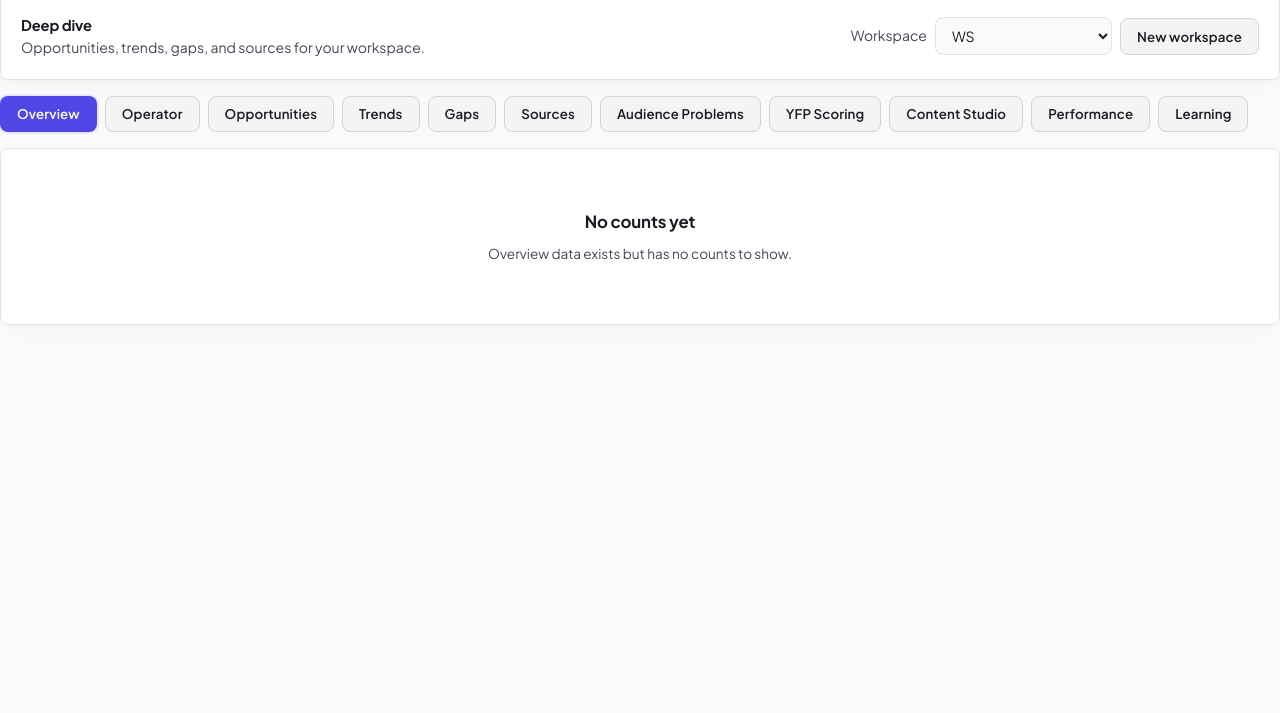
Test: BrainPage Sources & Connections (redesigned UX) › backend probe failures render honestly without inventing success
Click the tab "Sources" at (548, 114), box [504,96,592,132]
(page scrolled)
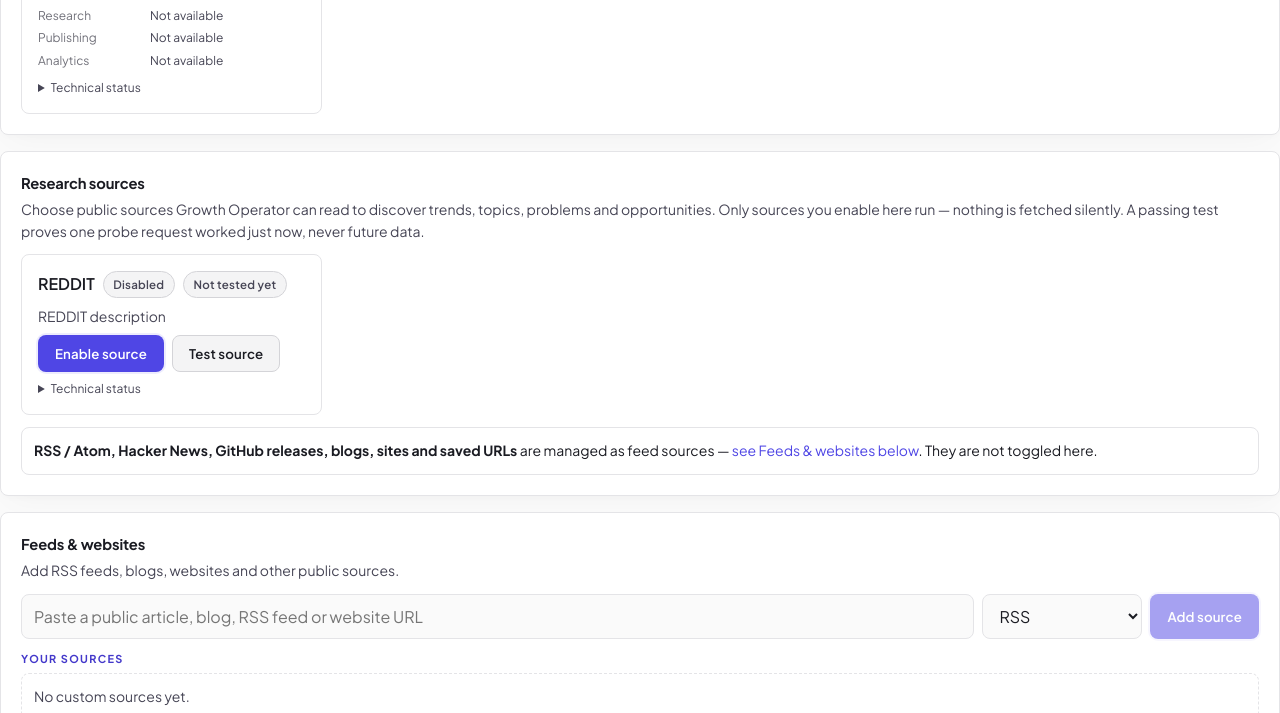
Click the button "Test source" at (226, 354), box [172,335,280,372]
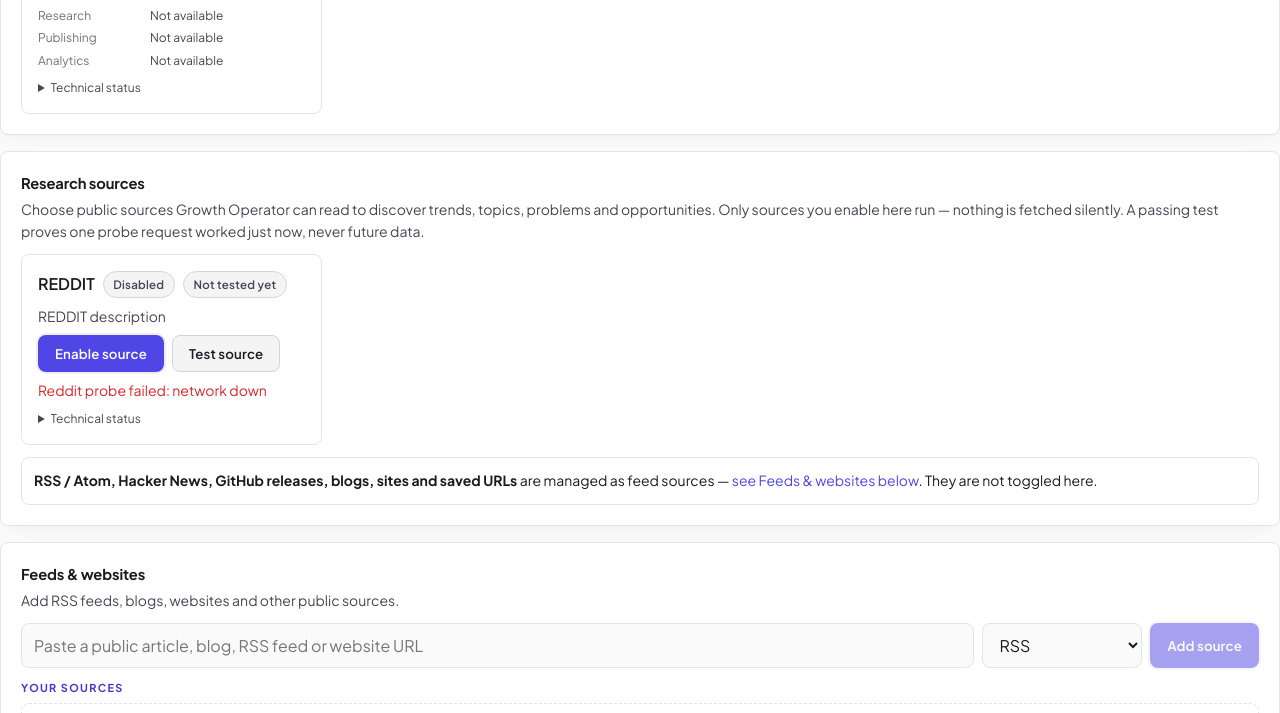
Now the message reads "Reddit probe failed: network down", box [38,381,267,399]
